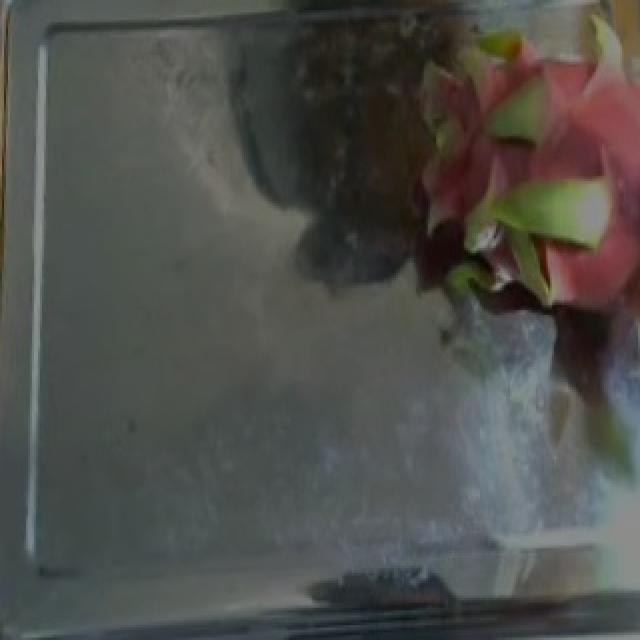fruit: (356, 2, 640, 404)
